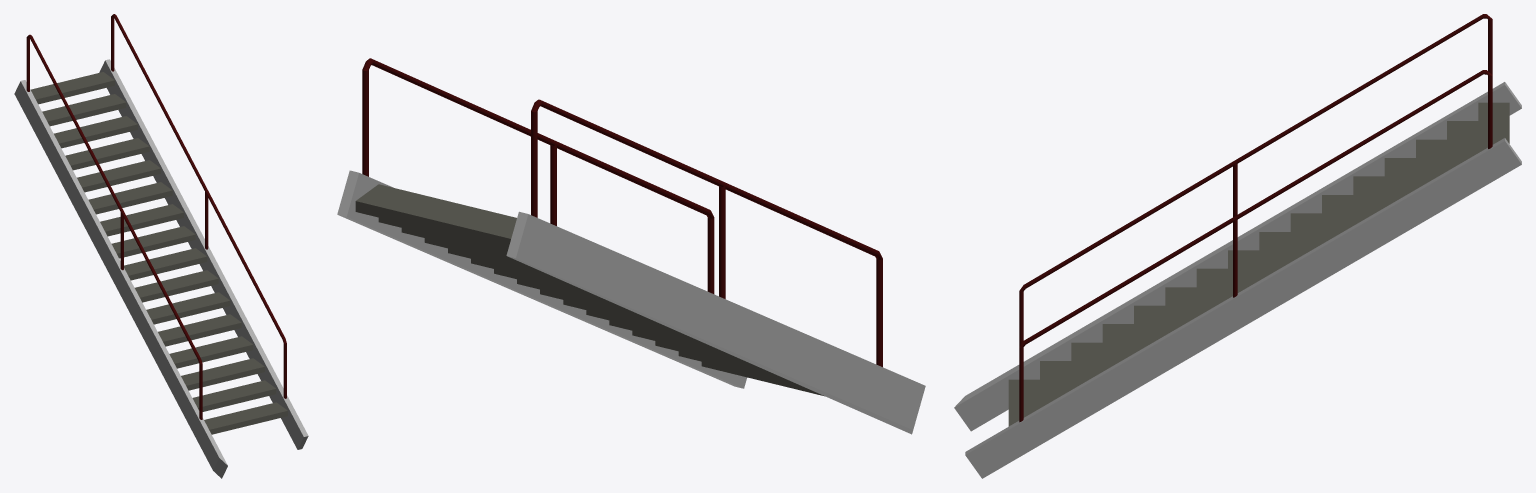
The model's file is Stairs.fbx.
The picture shows the model from 3 angles, left to right: view 1: azimuth 30°, elevation 25°; view 2: azimuth 150°, elevation 25°; view 3: azimuth 270°, elevation 25°; orthographic projection. The views are drawn at different scales.
Parts seen in each view (by area): view 1: pCube17, pCube18, pCylinder8, pCylinder9, pCube1, pCube3, pCube2, pCube13, pCube16, pCube15, pCube11, pCube14 (+8 smaller); view 2: pCube17, pCube18, pCube16, pCylinder8, pCylinder9, pCube15; view 3: pCube18, pCube17, pCylinder9, pCylinder8, pCube15, pCube12, pCube13, pCube10, pCube7, pCube14, pCube11, pCube9 (+8 smaller).
Part boxes in pixels (x1,y1,x2,y2): pCube17: [14, 80, 227, 478]; pCube18: [99, 59, 308, 449]; pCylinder8: [26, 34, 202, 419]; pCylinder9: [111, 14, 286, 398]; pCube1: [204, 402, 287, 434]; pCube3: [181, 358, 264, 390]; pCube2: [192, 380, 276, 411]; pCube13: [65, 138, 149, 170]; pCube16: [31, 72, 114, 104]; pCube15: [42, 94, 126, 126]; pCube11: [88, 182, 172, 214]; pCube14: [54, 116, 137, 148]; pCube17: [506, 211, 925, 434]; pCube18: [337, 170, 747, 388]; pCube16: [355, 184, 516, 248]; pCylinder8: [531, 99, 882, 366]; pCylinder9: [362, 58, 714, 293]; pCube15: [378, 217, 508, 253]; pCube18: [965, 138, 1521, 478]; pCube17: [954, 82, 1521, 431]; pCylinder9: [1019, 70, 1492, 422]; pCylinder8: [1019, 14, 1492, 346]; pCube15: [1447, 121, 1478, 171]; pCube12: [1353, 176, 1384, 225]; pCube13: [1384, 158, 1415, 207]; pCube10: [1290, 213, 1321, 261]; pCube7: [1196, 268, 1227, 316]; pCube14: [1416, 139, 1446, 189]; pCube11: [1322, 195, 1353, 243]; pCube9: [1259, 232, 1290, 280].
Bounding box in the file's own units: 4.47 × 14.64 × 18.13.
